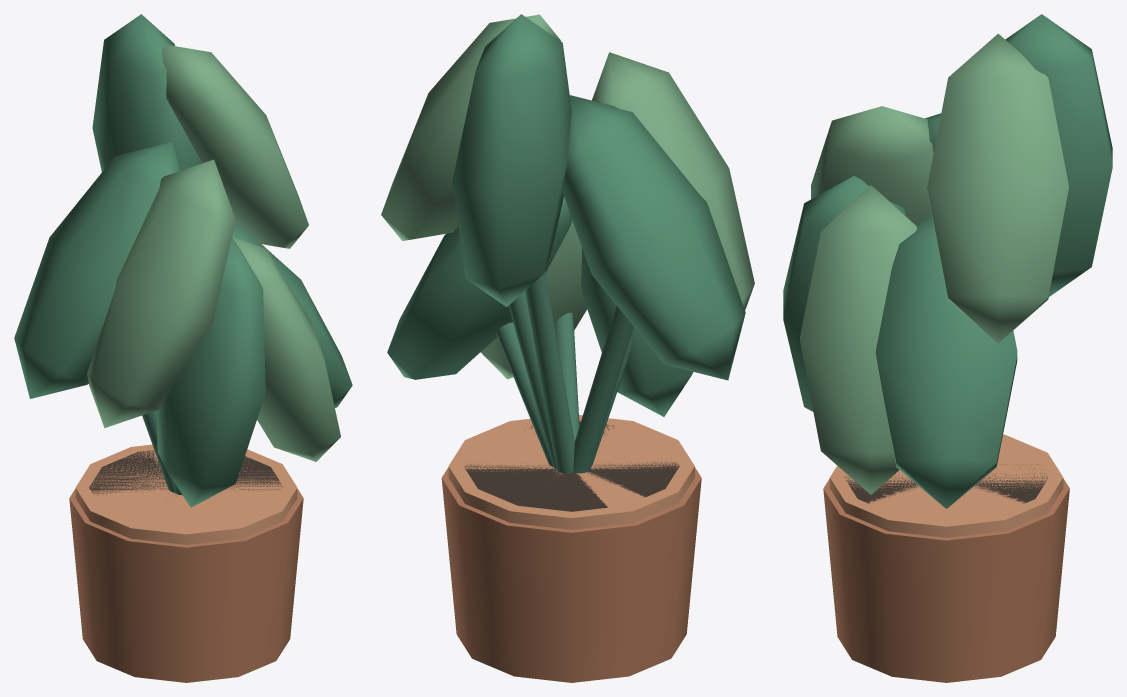
The model's file is officeSucculent.glb.
The picture shows the model from 3 angles, left to right: view 1: azimuth 30°, elevation 25°; view 2: azimuth 150°, elevation 25°; view 3: azimuth 270°, elevation 25°; orthographic projection. The views are drawn at different scales.
Bounding box in the file's own units: 0.2751 × 0.5038 × 0.2414.
